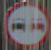No overtake: (3, 3, 47, 49)
